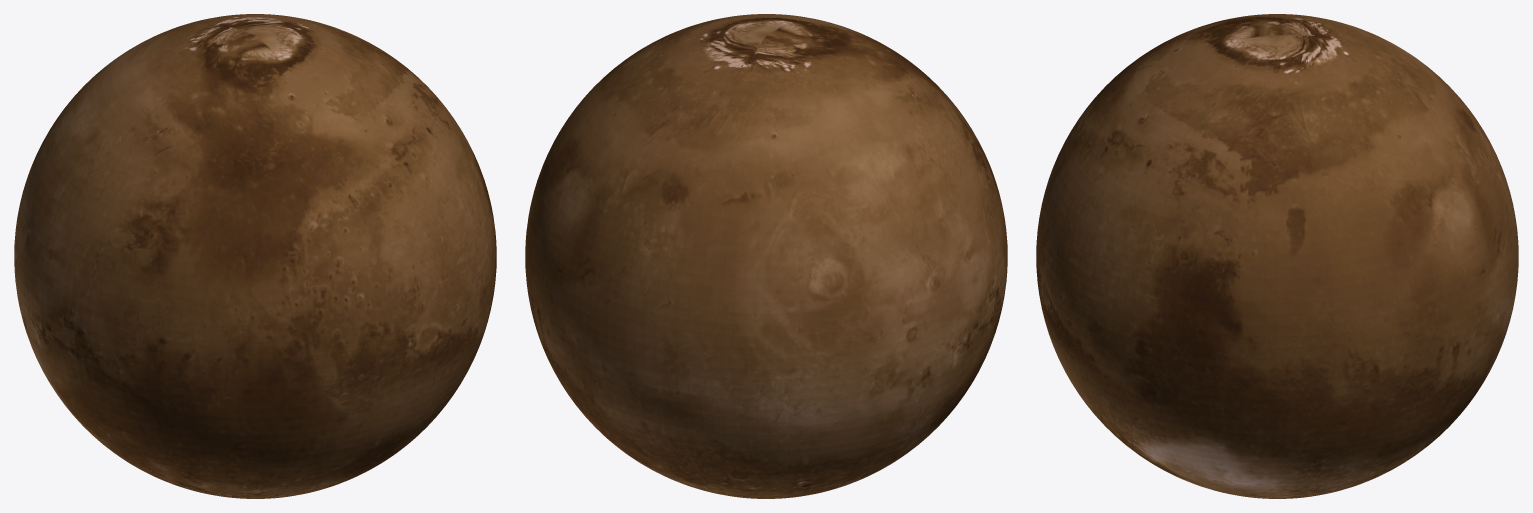
The model's file is mars1.obj.
3 views of the same model, side by side, from view 1: azimuth 30°, elevation 25°; view 2: azimuth 150°, elevation 25°; view 3: azimuth 270°, elevation 25° (orthographic).
Parts seen in each view (by area): view 1: Sphere; view 2: Sphere; view 3: Sphere.
Part boxes in pixels (left/top/right/bottom): Sphere: left=14, top=14, right=496, bottom=498; Sphere: left=525, top=14, right=1007, bottom=498; Sphere: left=1036, top=14, right=1518, bottom=498.
Size of the model in its own units: 0.988 by 0.9984 by 0.988.
Materials: 1 (1 with a texture image).
